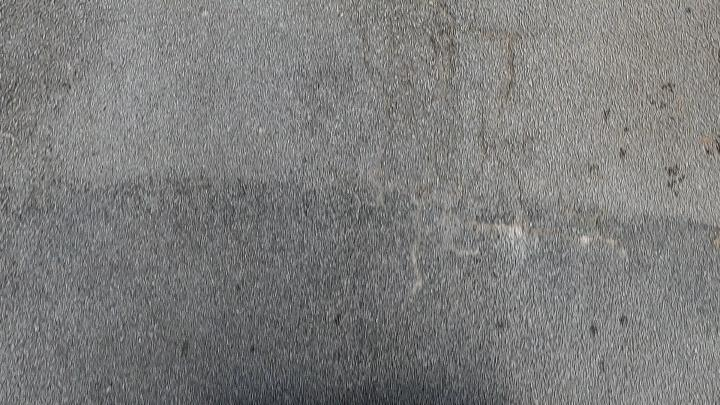Crack: (401, 198, 558, 298), (413, 0, 522, 143), (405, 203, 481, 298), (478, 29, 522, 138), (417, 0, 459, 89), (474, 214, 555, 240)
